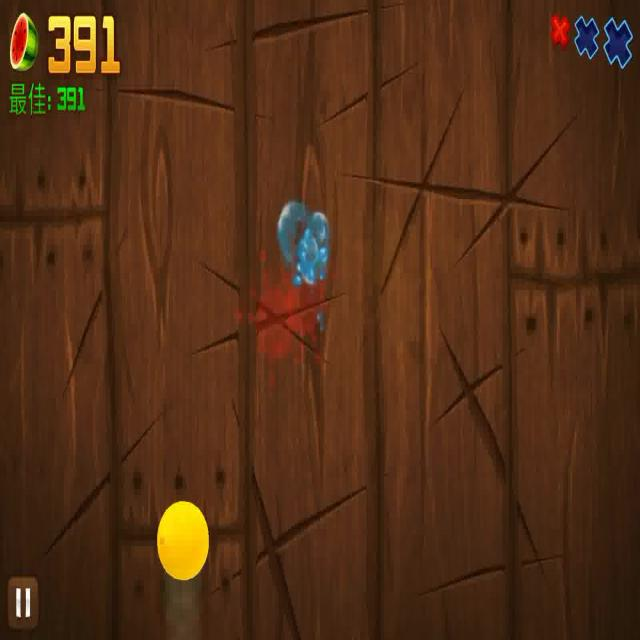fruit: (156, 503, 208, 581)
